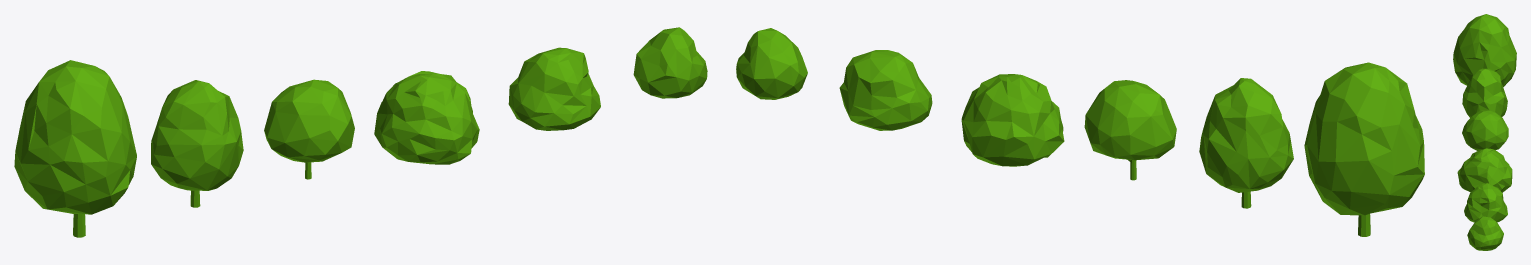
Rendered from ShrubGrp.fbx.
The picture shows the model from 3 angles, left to right: view 1: azimuth 30°, elevation 25°; view 2: azimuth 150°, elevation 25°; view 3: azimuth 270°, elevation 25°; orthographic projection. The views are drawn at different scales.
Visible parts, largest first — view 1: ShrubTreeC_geo, ShrubTreeB_geo, ShrubGroundC_geo, ShrubTreeA_geo, ShrubGroundB_geo, ShrubGroundA_geo; view 2: ShrubTreeC_geo, ShrubTreeB_geo, ShrubGroundC_geo, ShrubTreeA_geo, ShrubGroundB_geo, ShrubGroundA_geo; view 3: ShrubTreeC_geo, ShrubGroundC_geo, ShrubTreeB_geo, ShrubTreeA_geo, ShrubGroundB_geo, ShrubGroundA_geo.
Boxes of the visible parts, bbox=[...] form: ShrubTreeC_geo: bbox=[14, 60, 136, 237]; ShrubTreeB_geo: bbox=[151, 80, 243, 207]; ShrubGroundC_geo: bbox=[374, 71, 479, 164]; ShrubTreeA_geo: bbox=[264, 79, 354, 179]; ShrubGroundB_geo: bbox=[508, 47, 600, 130]; ShrubGroundA_geo: bbox=[633, 27, 707, 98]; ShrubTreeC_geo: bbox=[1304, 62, 1424, 236]; ShrubTreeB_geo: bbox=[1199, 78, 1293, 208]; ShrubGroundC_geo: bbox=[961, 74, 1064, 166]; ShrubTreeA_geo: bbox=[1084, 80, 1176, 180]; ShrubGroundB_geo: bbox=[839, 50, 932, 130]; ShrubGroundA_geo: bbox=[736, 28, 807, 99]; ShrubTreeC_geo: bbox=[1453, 14, 1516, 86]; ShrubGroundC_geo: bbox=[1457, 148, 1512, 192]; ShrubTreeB_geo: bbox=[1462, 68, 1507, 117]; ShrubTreeA_geo: bbox=[1462, 110, 1508, 150]; ShrubGroundB_geo: bbox=[1464, 183, 1507, 222]; ShrubGroundA_geo: bbox=[1467, 216, 1503, 250].
Size of the model in its own units: 2670 by 658 by 434.
